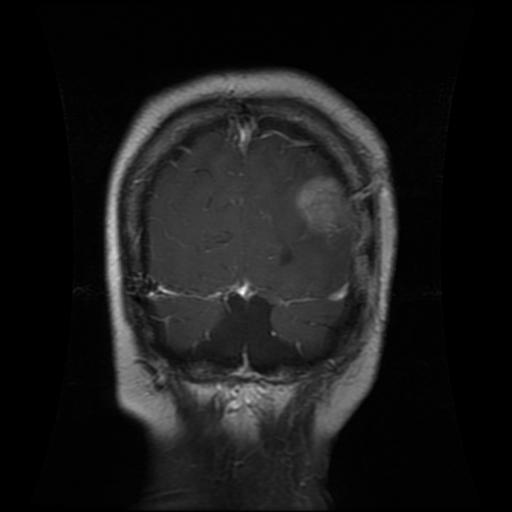Gliomia_tumour: (291, 171, 358, 243)
